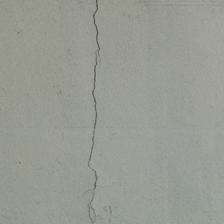Crack: (42, 1, 63, 218)
